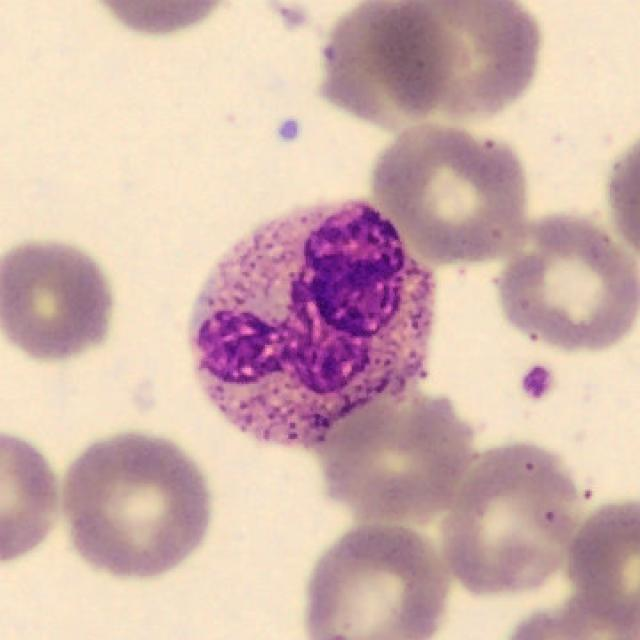Neutrofilo segmentado: (187, 201, 437, 452)
